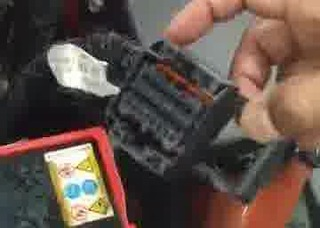connector: (105, 38, 240, 186)
